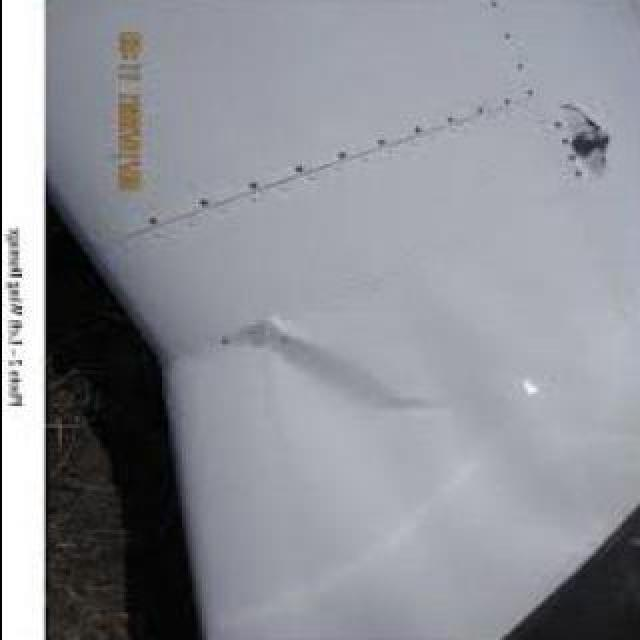dent: (218, 317, 446, 415)
